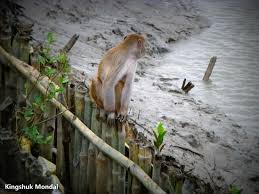monkey: (35, 19, 223, 128)
